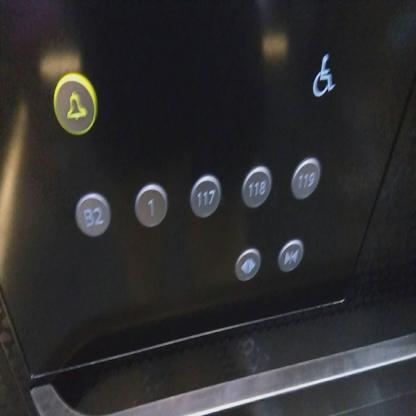1: (134, 180, 169, 232)
117: (188, 172, 223, 222)
118: (240, 161, 273, 212)
119: (290, 153, 322, 204)
B2: (72, 188, 112, 240)
CH: (308, 35, 341, 103)
alarm: (52, 68, 98, 140)
close: (275, 237, 306, 274)
open: (233, 244, 262, 285)
